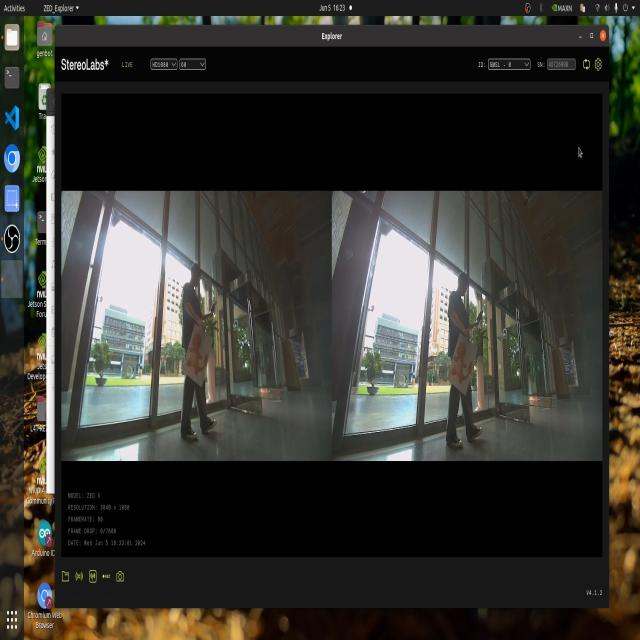red: (446, 336, 470, 386), (183, 334, 204, 370)
